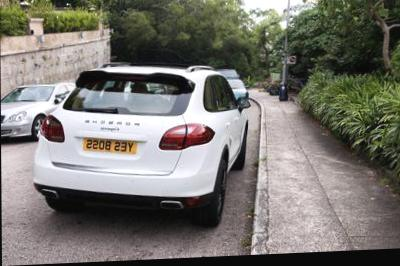License_Plate: (84, 134, 140, 155)
